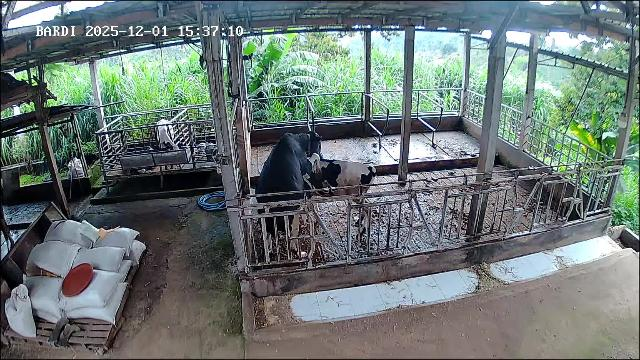mounting: (259, 130, 324, 267)
